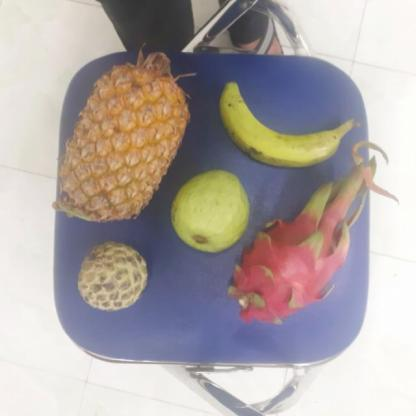annona: (77, 244, 151, 311)
banana: (215, 80, 344, 170)
guava: (171, 172, 253, 254)
pineapple: (61, 53, 194, 222)
pitaya: (230, 214, 350, 324)
